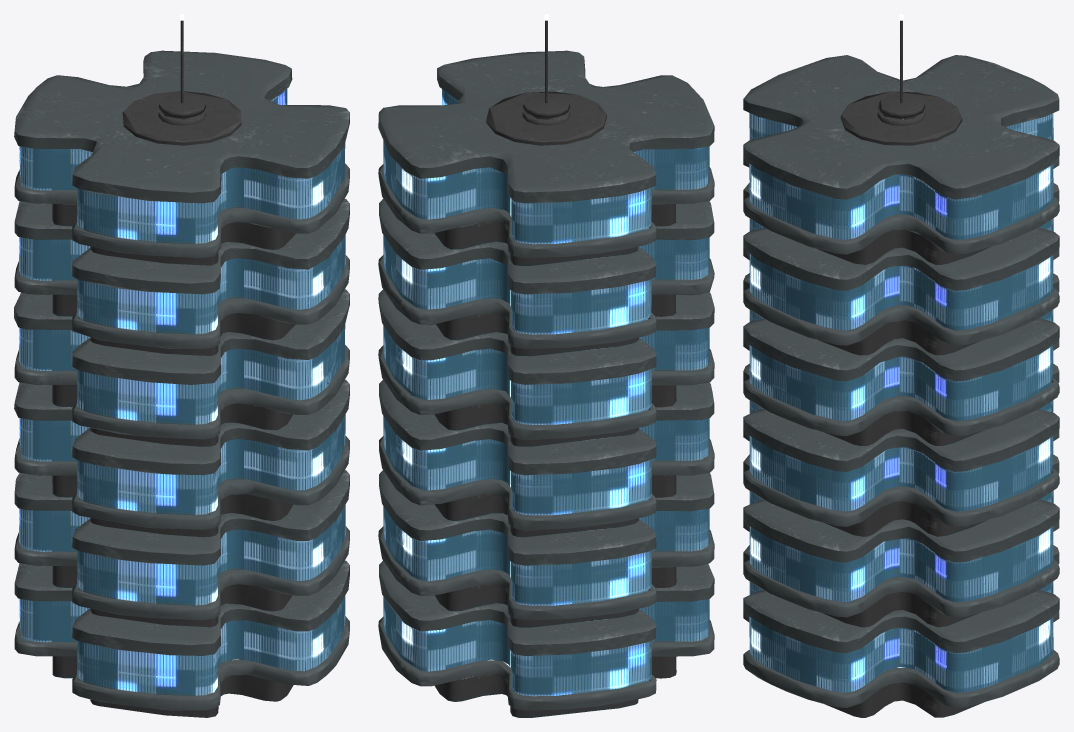
Rendered from scifi-b4.gltf.
The picture shows the model from 3 angles, left to right: view 1: azimuth 30°, elevation 25°; view 2: azimuth 150°, elevation 25°; view 3: azimuth 270°, elevation 25°; orthographic projection.
Parts seen in each view (by area): view 1: lod0; view 2: lod0; view 3: lod0.
Boxes of the visible parts, bbox=[...] form: lod0: bbox=[14, 14, 349, 717]; lod0: bbox=[378, 14, 714, 717]; lod0: bbox=[743, 14, 1059, 717].
Size of what is drawn, in the model's own units: 104 by 235 by 104.
1 material, 1 textured.
